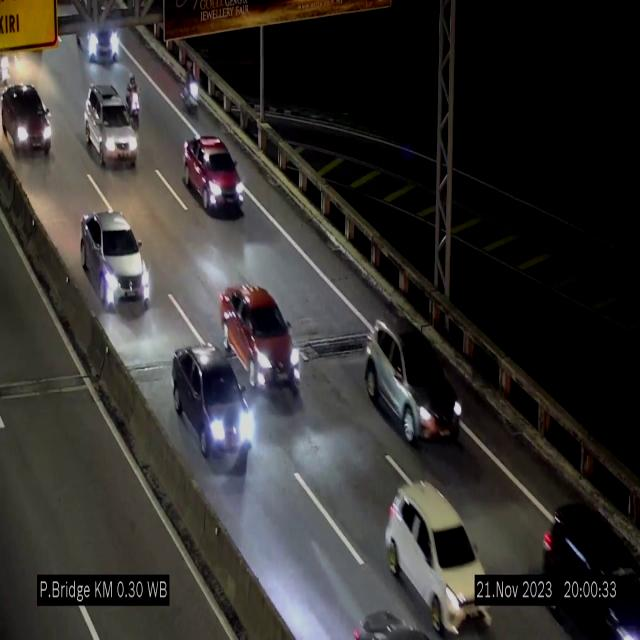Car: (384, 481, 490, 637), (543, 497, 640, 640), (365, 323, 463, 441), (221, 278, 303, 403), (173, 346, 258, 458), (81, 211, 150, 308), (84, 87, 144, 177), (0, 79, 61, 163), (183, 134, 244, 214), (78, 25, 122, 67)
Motorcycle: (182, 60, 201, 116), (126, 73, 146, 124)
